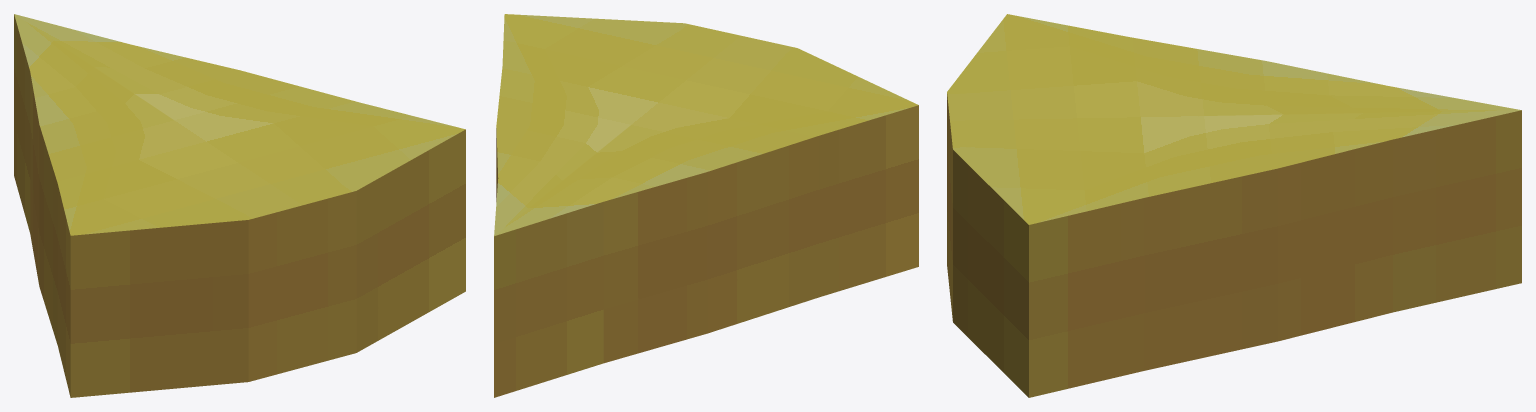
The model's file is cheese.fbx.
3 renders of one model, left to right at view 1: azimuth 30°, elevation 25°; view 2: azimuth 150°, elevation 25°; view 3: azimuth 270°, elevation 25°, orthographic. The views are drawn at different scales.
Parts seen in each view (by area): view 1: cylinder; view 2: cylinder; view 3: cylinder.
Boxes of the visible parts, left/top/right/bottom form: cylinder: left=14, top=14, right=465, bottom=397; cylinder: left=494, top=14, right=918, bottom=397; cylinder: left=947, top=14, right=1521, bottom=397.
Bounding box in the file's own units: 49.06 × 18.75 × 56.49.
1 material, 1 textured.
